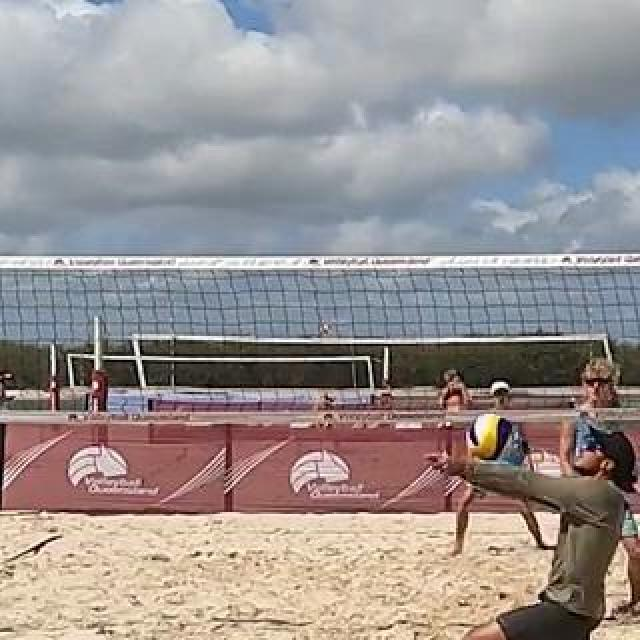volleyball: (468, 413, 512, 459)
